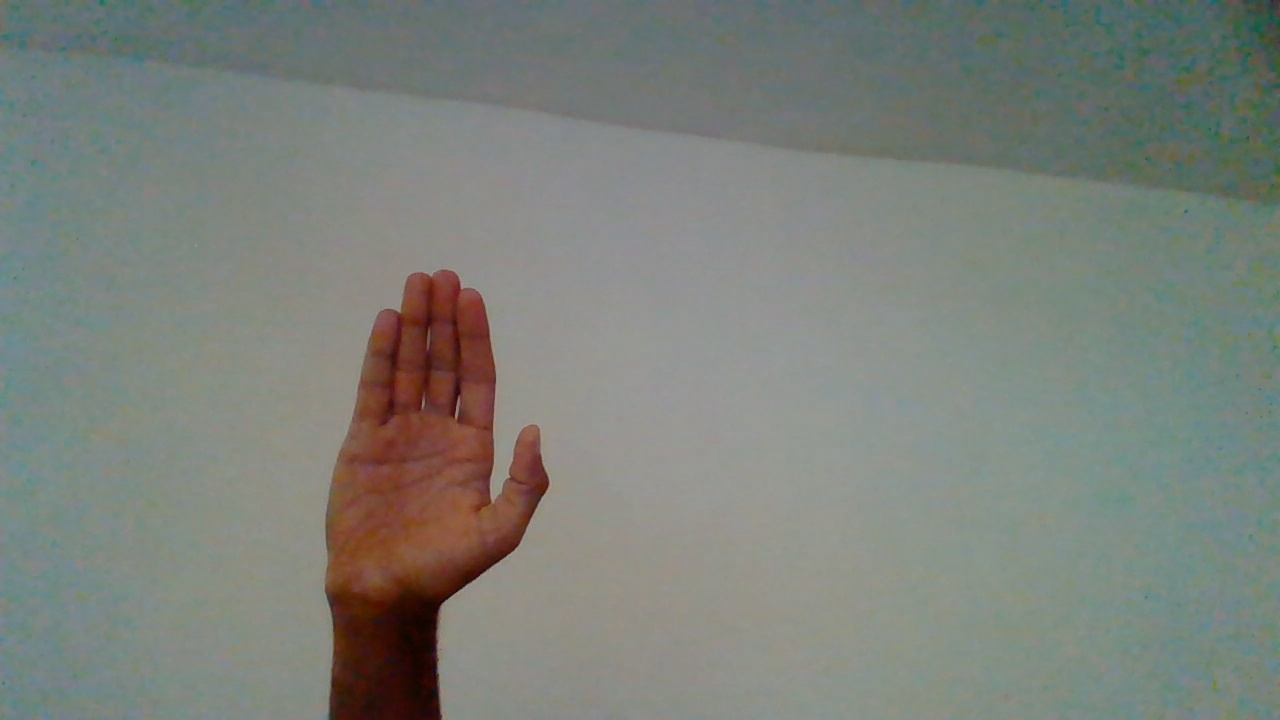ha: (320, 268, 551, 709)
